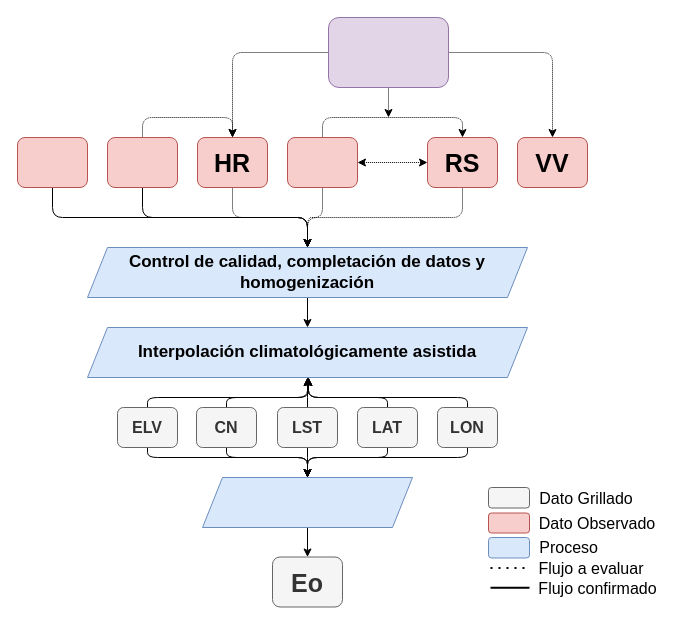
The diagram is 679 pixels wide and 625 high, and some of its shapes have lost their labels. Each missing label, with the centre of its shape:
Ecuación FPM: pixel 307 502
HS: pixel 322 162
Satélite o Reanálisis o Constante: pixel 388 52
TN: pixel 142 162
TX: pixel 52 162
